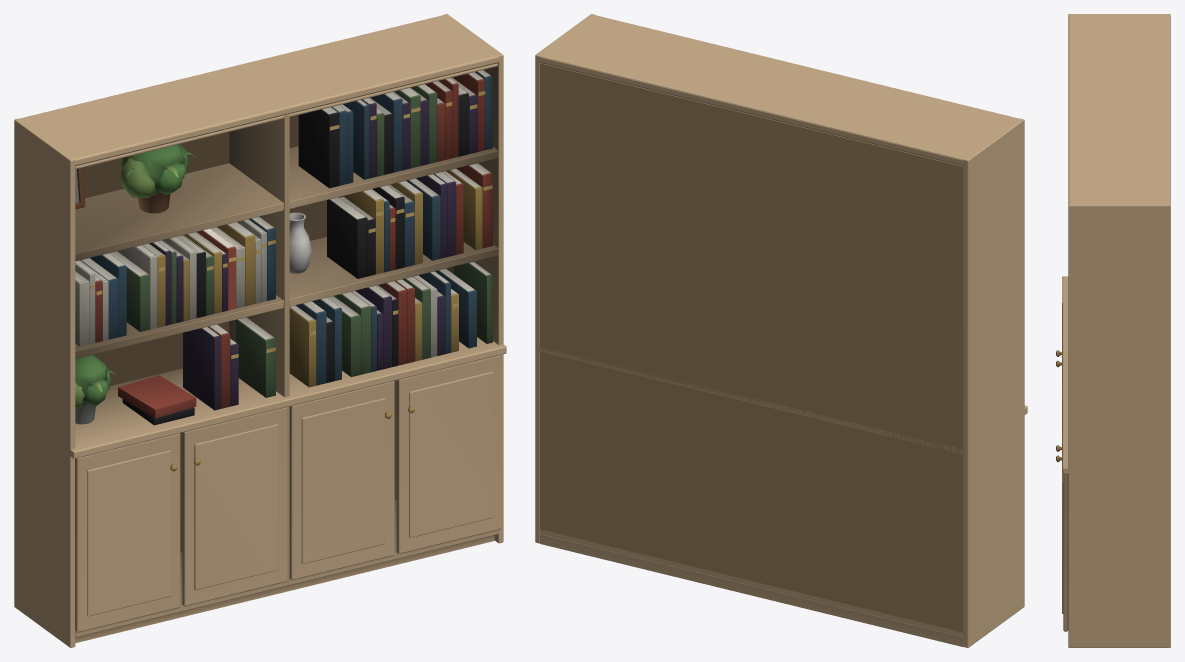
Rendered from bookcaseWide.glb.
3 renders of one model, left to right at view 1: azimuth 30°, elevation 25°; view 2: azimuth 150°, elevation 25°; view 3: azimuth 270°, elevation 25°, orthographic. The views are drawn at different scales.
Parts seen in each view (by area): view 1: bookcaseWide, book; view 2: bookcaseWide; view 3: bookcaseWide.
Part boxes in pixels (x1,y1,x2,y2): bookcaseWide: (14,14,506,647); book: (197,228,235,310); bookcaseWide: (535,14,1027,647); bookcaseWide: (1056,14,1170,647).
Size of the model in its own units: 1.86 by 2 by 0.47.
